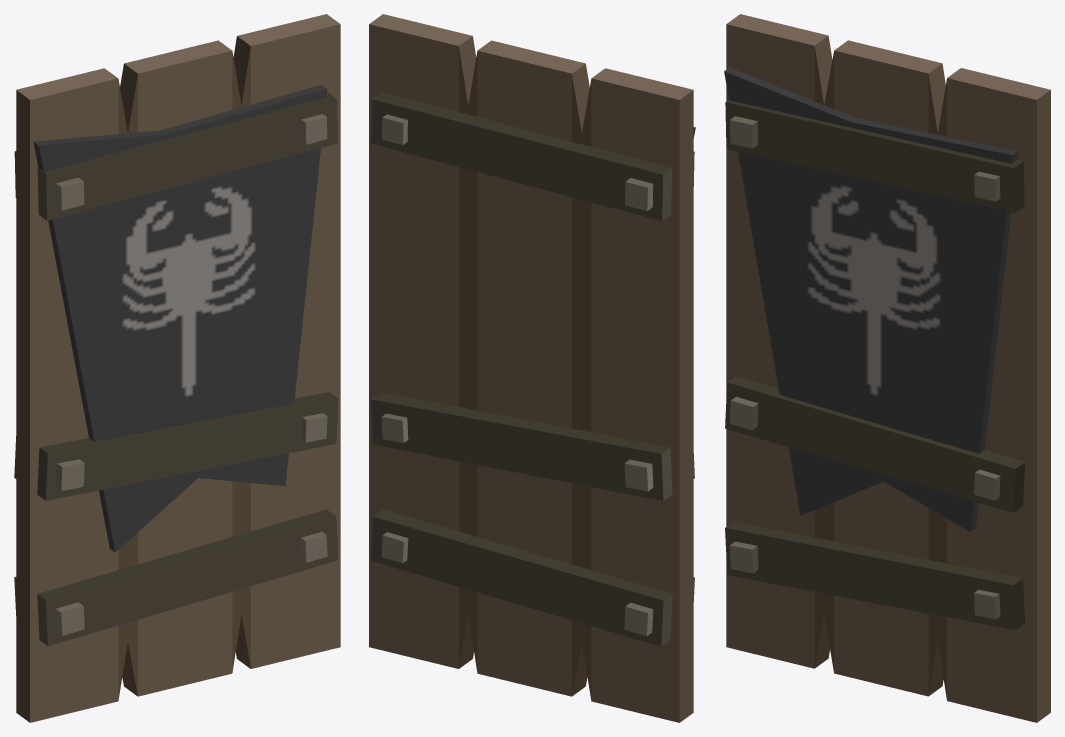
The model's file is SF_Wep_Goblin_Shield_06.fbx.
3 views of the same model, side by side, from view 1: azimuth 30°, elevation 25°; view 2: azimuth 150°, elevation 25°; view 3: azimuth 330°, elevation 25° (orthographic).
Visible parts, largest first — view 1: SF_Wep_Goblin_Shield_06; view 2: SF_Wep_Goblin_Shield_06; view 3: SF_Wep_Goblin_Shield_06.
Part boxes in pixels (<box>): SF_Wep_Goblin_Shield_06: <box>14,14,340,722</box>; SF_Wep_Goblin_Shield_06: <box>369,14,695,722</box>; SF_Wep_Goblin_Shield_06: <box>724,14,1050,722</box>.
Bounding box in the file's own units: 0.831 × 1.59 × 0.1957.
